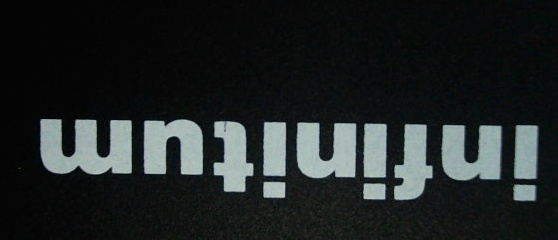BK_infinitum: (33, 112, 537, 201)
